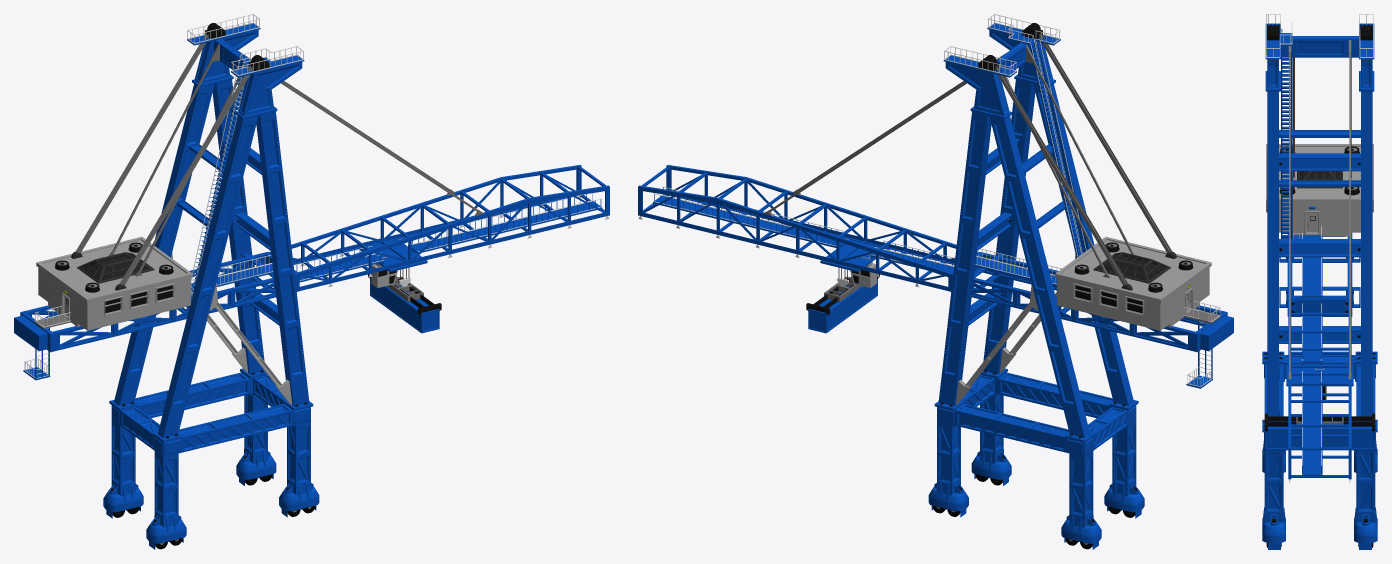
File: diaojibl.fbx
The picture shows the model from 3 angles, left to right: view 1: azimuth 30°, elevation 25°; view 2: azimuth 150°, elevation 25°; view 3: azimuth 270°, elevation 25°; orthographic projection. The views are drawn at different scales.
Visible parts, largest first — view 1: desirefx_me_001; view 2: desirefx_me_001; view 3: desirefx_me_001.
Boxes of the visible parts, x1,y1,x2,y2 form: desirefx_me_001: (14, 14, 609, 549); desirefx_me_001: (638, 14, 1233, 549); desirefx_me_001: (1262, 14, 1377, 549).
Size of the model in its own units: 38.79 by 30.34 by 6.38.
